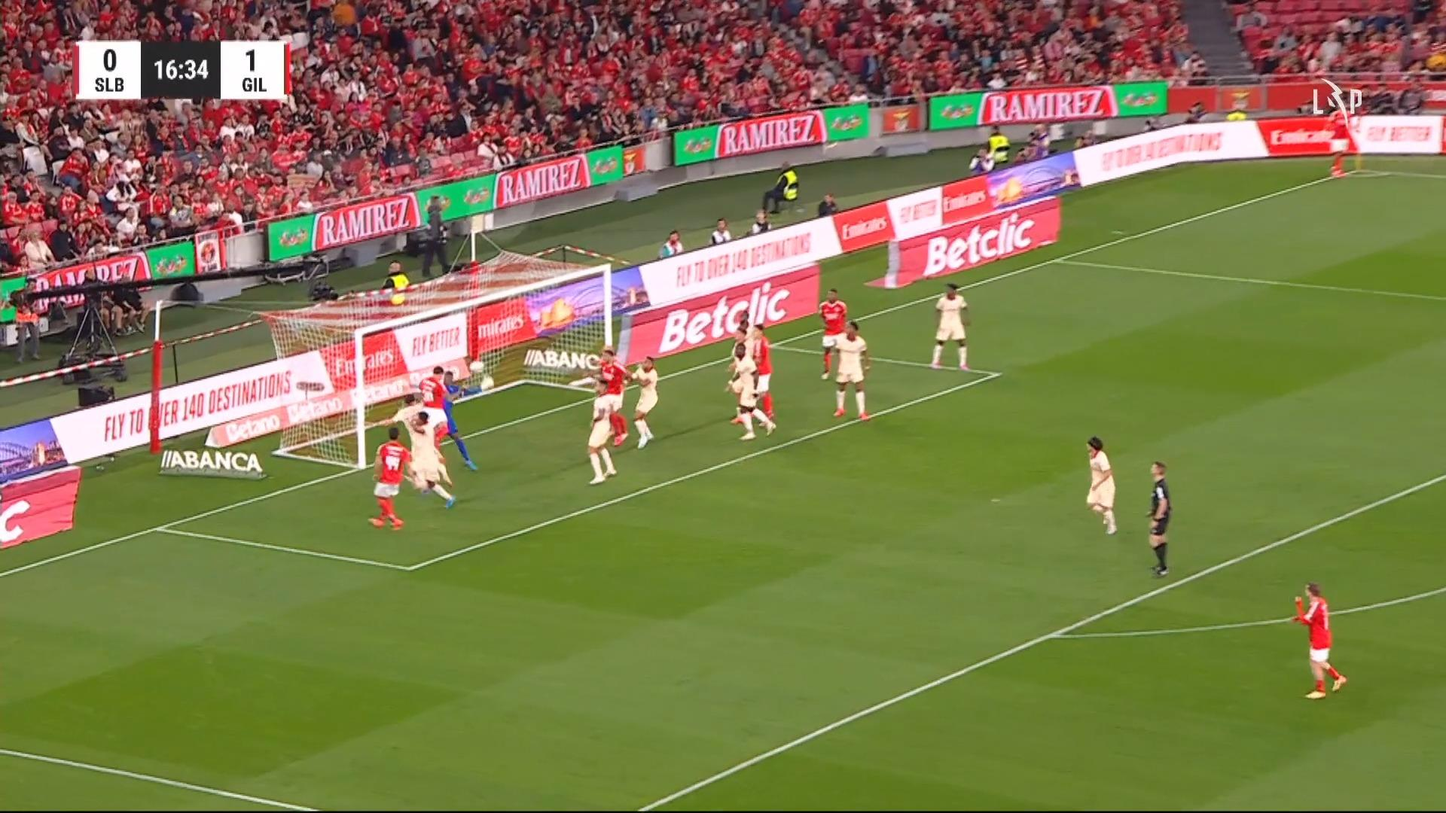ball: (480, 376, 493, 391), (95, 464, 104, 471)
goalkeeper: (445, 368, 477, 471)
player: (1290, 582, 1347, 699), (404, 408, 456, 508), (368, 425, 416, 530), (727, 346, 776, 440), (588, 346, 632, 446), (830, 320, 871, 420), (929, 282, 972, 371), (585, 380, 621, 486), (1084, 435, 1118, 535), (743, 322, 776, 425), (629, 355, 659, 449), (817, 288, 847, 380), (419, 367, 448, 443), (1330, 105, 1353, 181)
referee: (1145, 460, 1172, 577)
